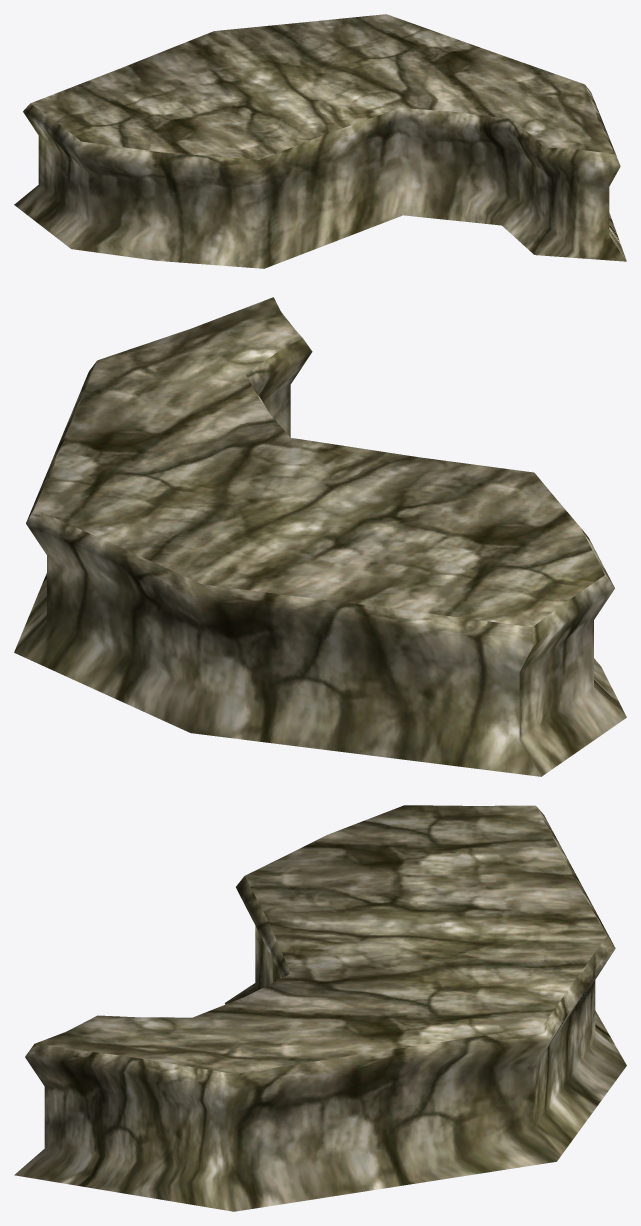
The model's file is CB_NEWPLAYSURFACE_CB_PLAYSURFACE110.fbx.
3 views of the same model, one above another, from view 1: azimuth 30°, elevation 25°; view 2: azimuth 150°, elevation 25°; view 3: azimuth 270°, elevation 25° (orthographic). The views are drawn at different scales.
Visible parts, largest first — view 1: CB_NEWPLAYSURFACE_CB_PLAYSURFACE110; view 2: CB_NEWPLAYSURFACE_CB_PLAYSURFACE110; view 3: CB_NEWPLAYSURFACE_CB_PLAYSURFACE110.
Part boxes in pixels (x1,y1,x2,y2): CB_NEWPLAYSURFACE_CB_PLAYSURFACE110: [14, 14, 626, 268]; CB_NEWPLAYSURFACE_CB_PLAYSURFACE110: [14, 297, 626, 776]; CB_NEWPLAYSURFACE_CB_PLAYSURFACE110: [14, 805, 626, 1211].
Bounding box in the file's own units: 128052 × 27027 × 116201.
2 materials, 2 textured.
